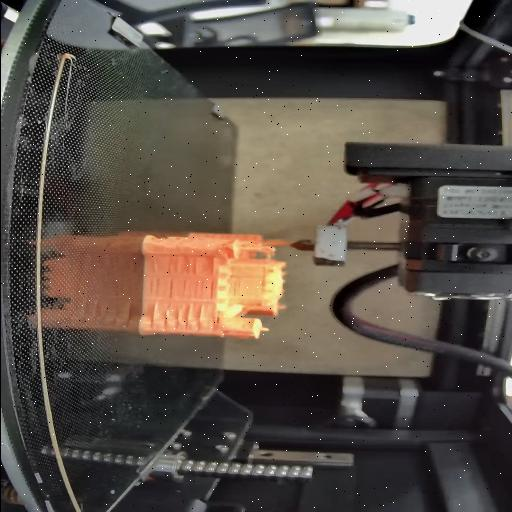cracks: (151, 302, 205, 330), (154, 254, 199, 274), (178, 278, 216, 299), (145, 278, 174, 297), (206, 256, 216, 276), (214, 313, 225, 325)
